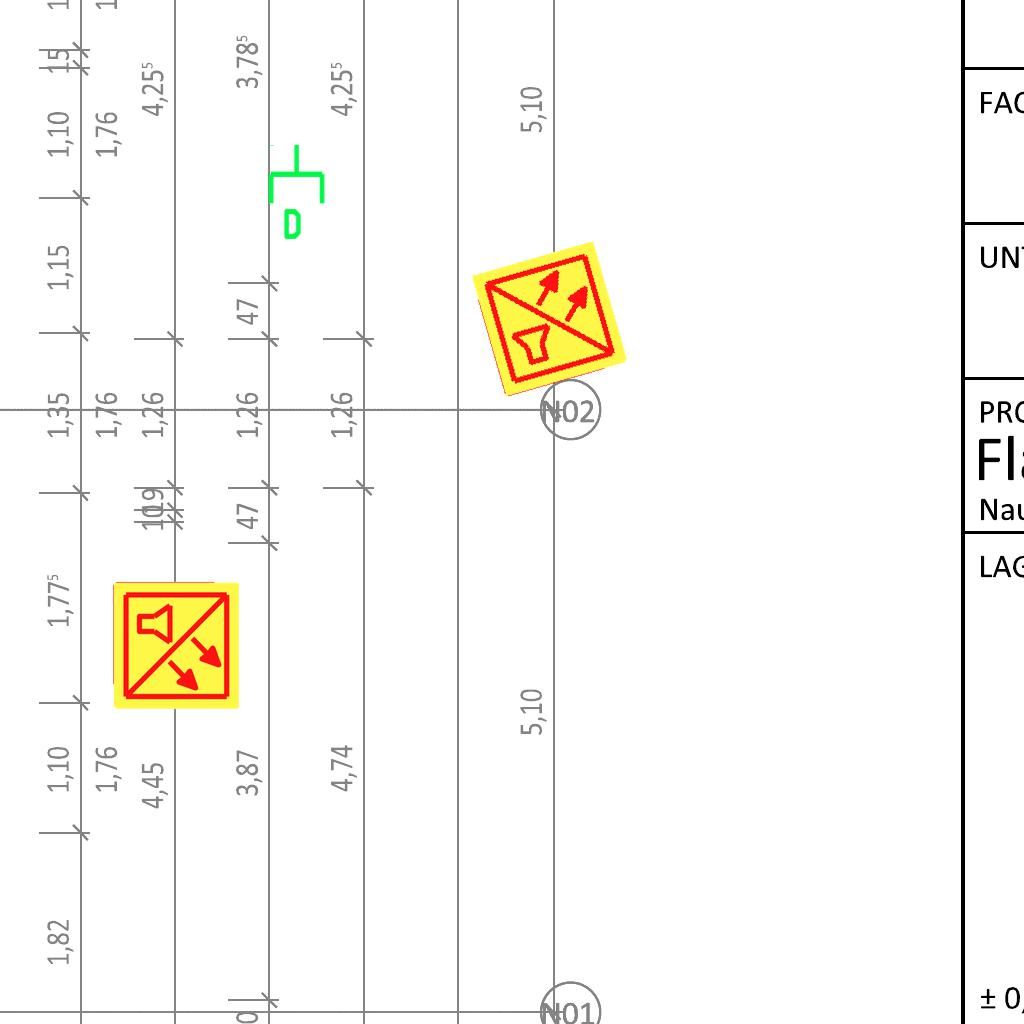Datenanschluss_einfach: (264, 142, 333, 242)
OKW_Multisensormelder_(Kombination_optischer_Rauch-Kahlenmonoxid_Waerme-Melder): (468, 237, 632, 401), (110, 580, 242, 712)
